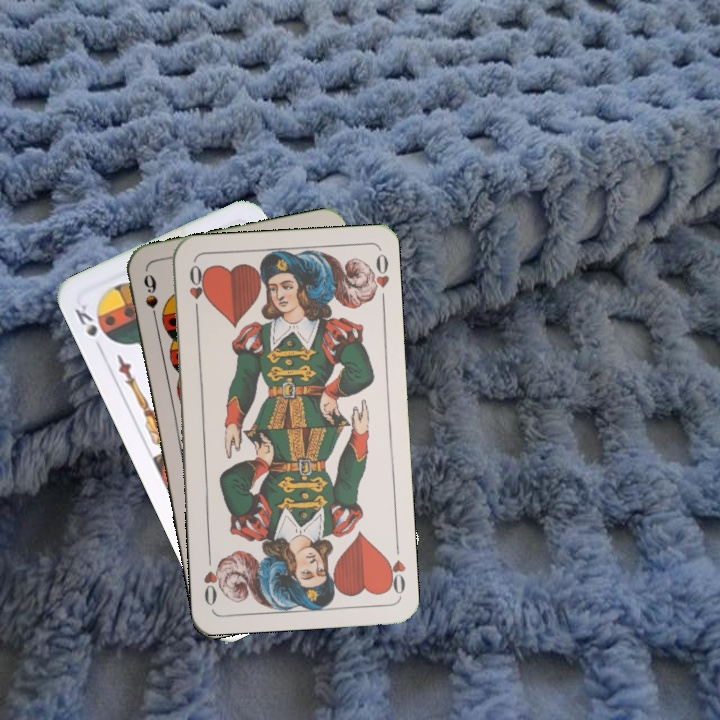HO: (381, 539, 408, 598), (185, 261, 207, 319)
S9: (139, 270, 161, 328)
SK: (70, 300, 106, 355)
